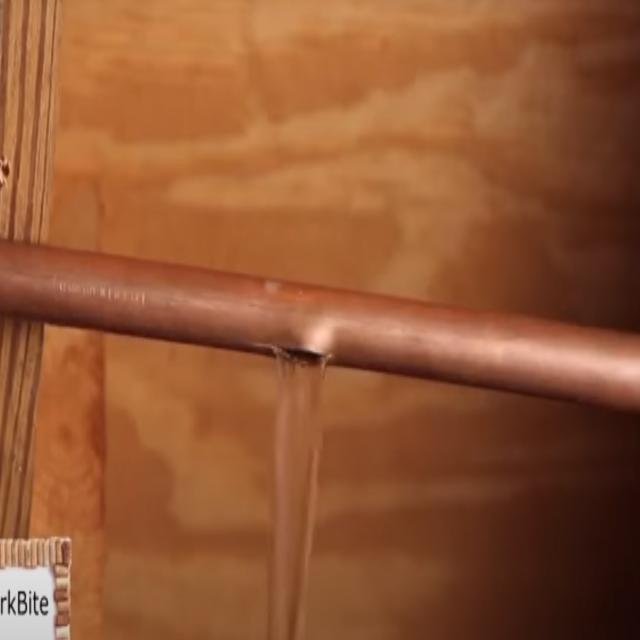leak: (269, 353, 324, 638)
